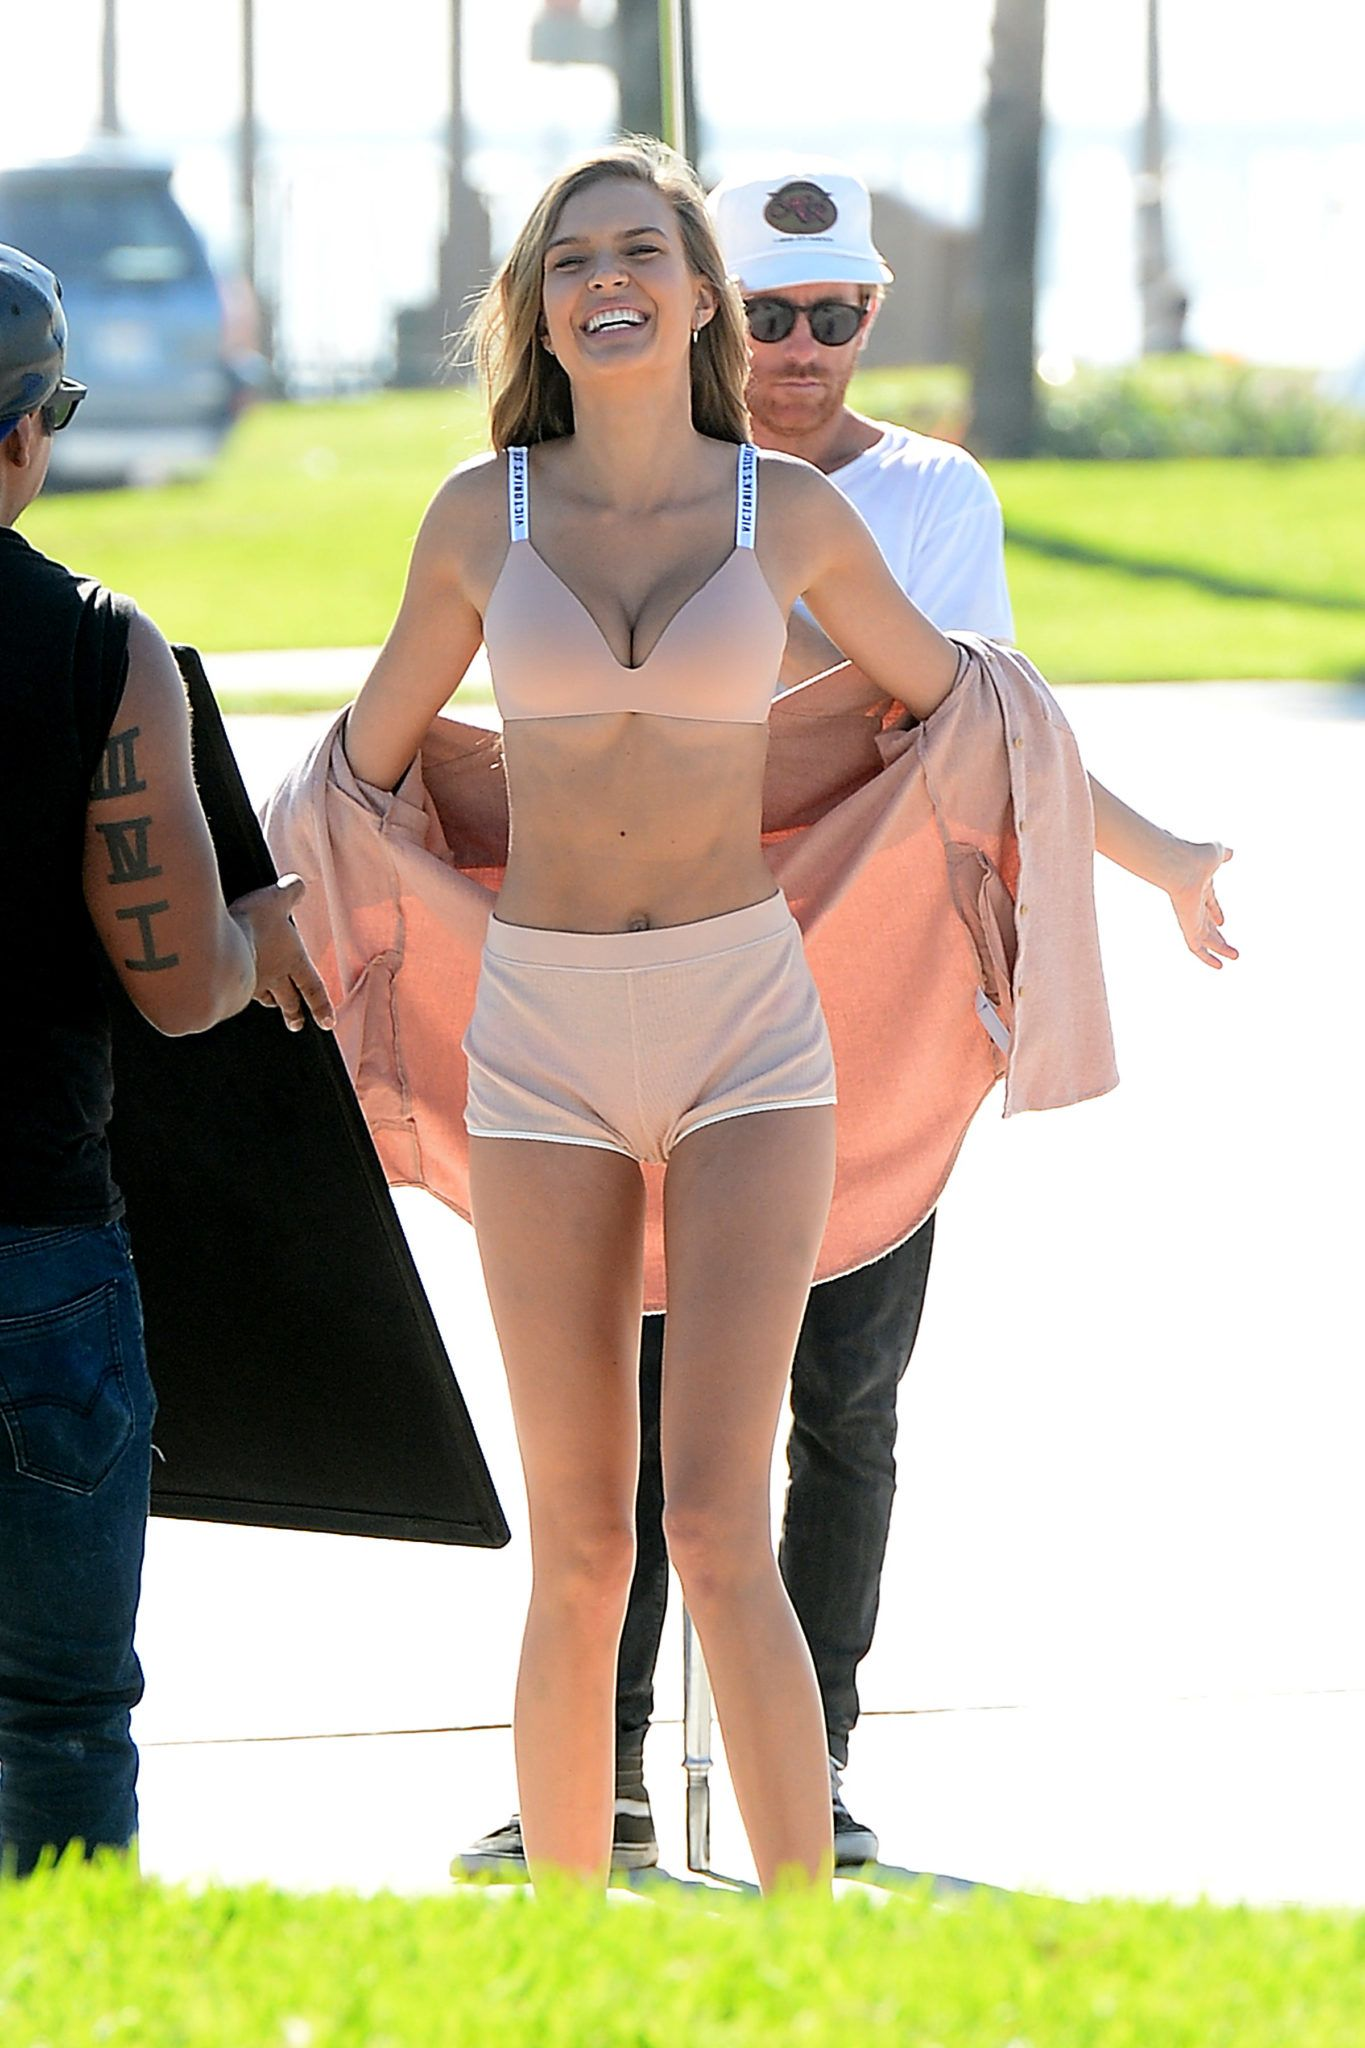Person: (257, 134, 1244, 1906)
